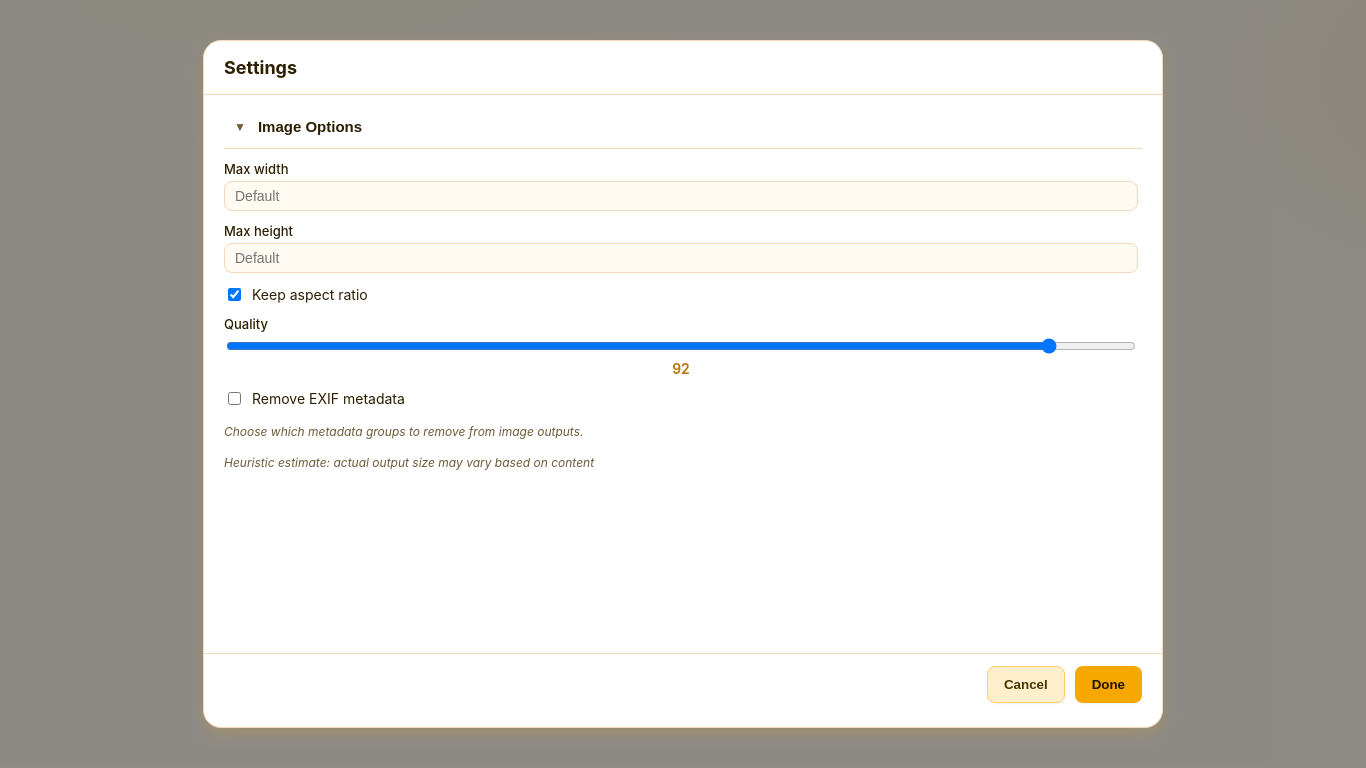
Test: SettingsModal › shows and hides EXIF category list with removeExif checkbox
Expected: the text "EXIF categories" is not shown
Click the checkbox labelled "Remove EXIF metadata": (234, 398) [228,392,241,405]
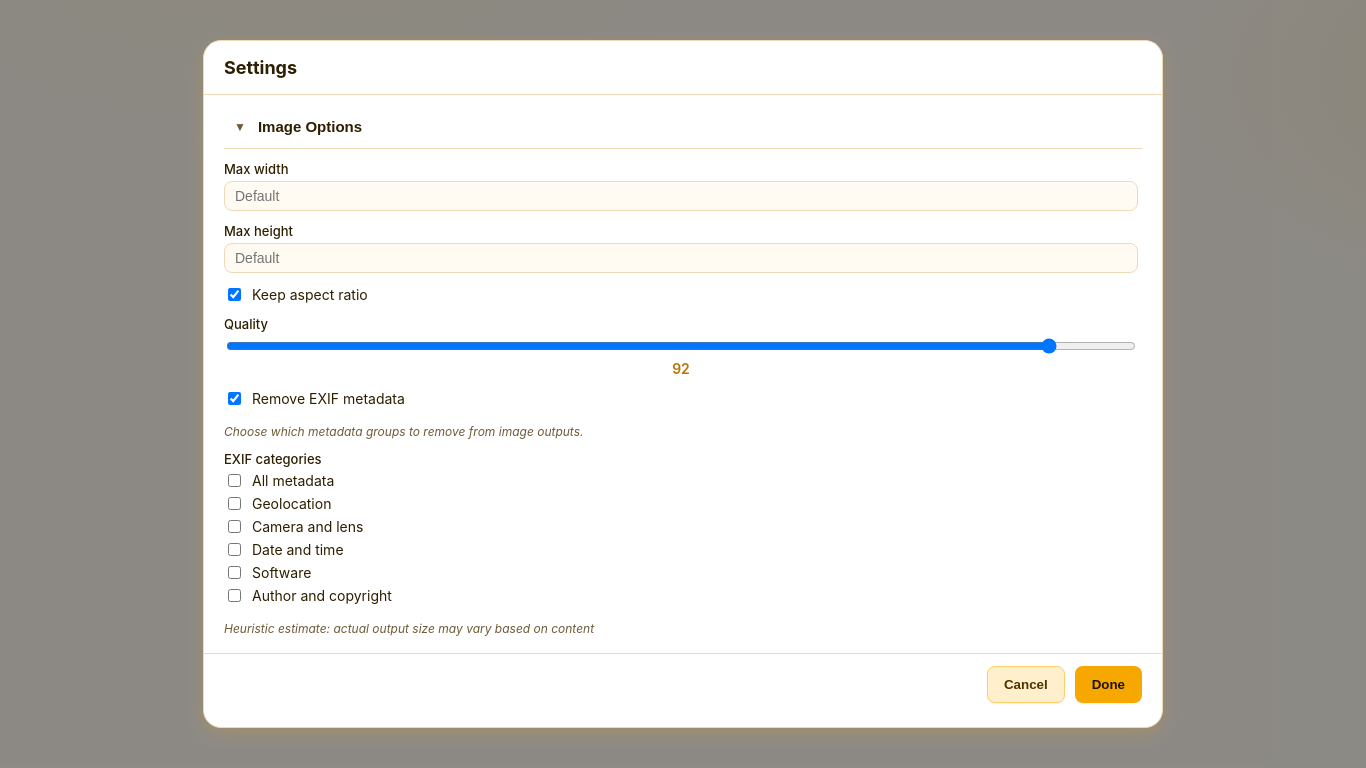
Expected: the text "EXIF categories" is shown, [224,451,322,467]
Expected: the checkbox labelled "All metadata" is shown, [228,474,241,487]
Click the checkbox labelled "Remove EXIF metadata": (234, 398) [228,392,241,405]
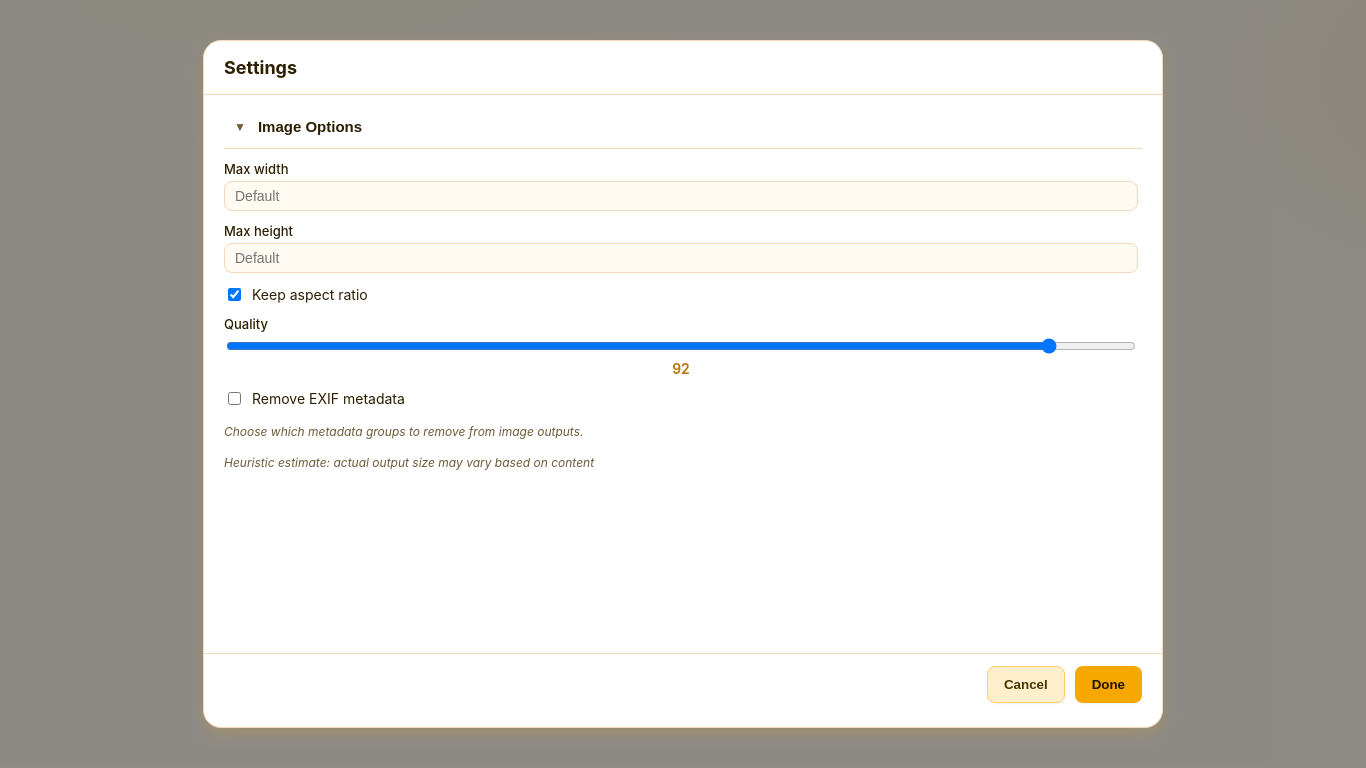
Expected: the text "EXIF categories" is gone
